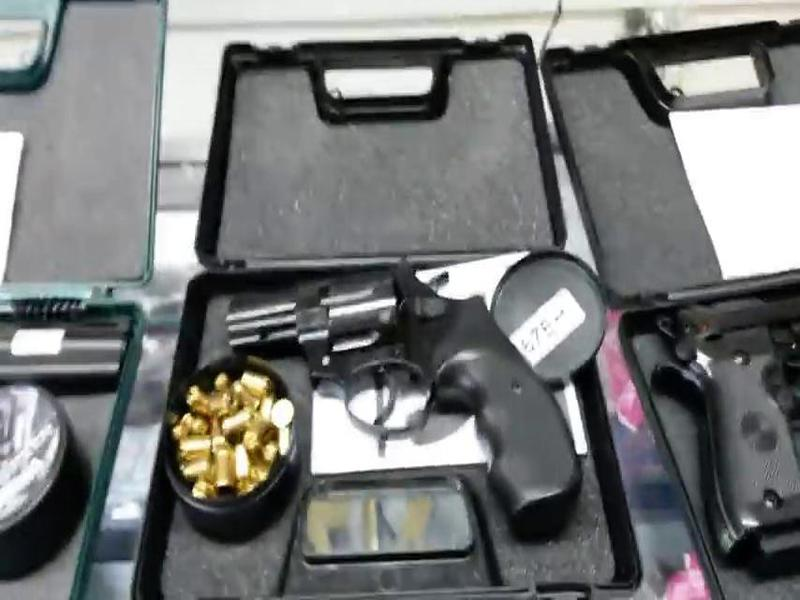Revolver: (209, 233, 597, 556)
